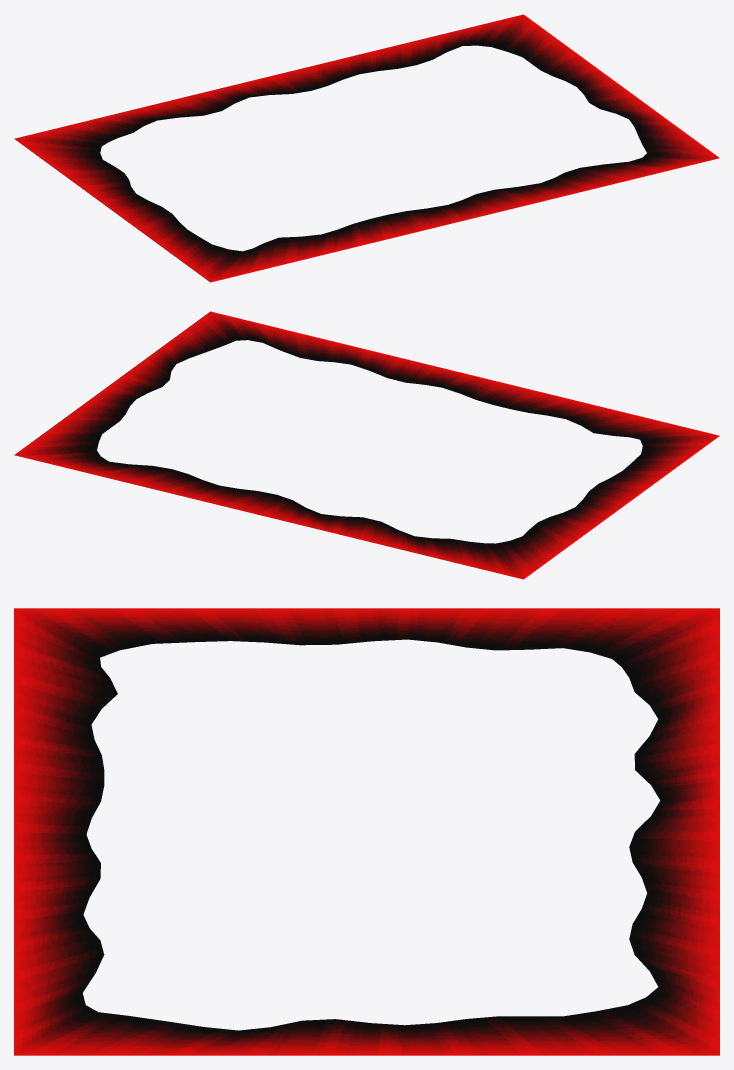
Rendered from camera_border.FBX.
The picture shows the model from 3 angles, top to bottom: view 1: azimuth 30°, elevation 25°; view 2: azimuth 150°, elevation 25°; view 3: azimuth 270°, elevation 25°; orthographic projection. The views are drawn at different scales.
Parts seen in each view (by area): view 1: camera_border; view 2: camera_border; view 3: camera_border.
Boxes of the visible parts, left/top/right/bottom form: camera_border: left=14, top=14, right=719, bottom=282; camera_border: left=14, top=311, right=719, bottom=579; camera_border: left=14, top=608, right=719, bottom=1055.
Bounding box in the file's own units: 725 × 484 × 0.000167.
